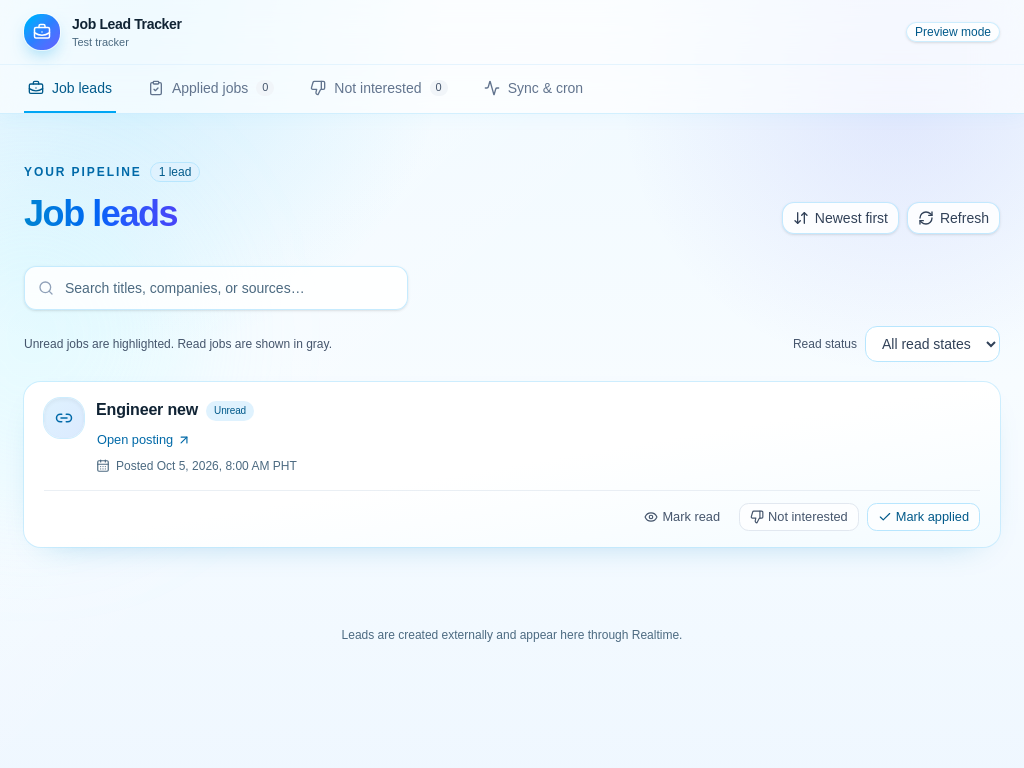
Test: DashboardView job tracking › removes priority controls and moves dismissed jobs to Not interested with undo
Click the button with aria-label "Mark Engineer new as not interested" at (799, 517), box [739,503,859,531]
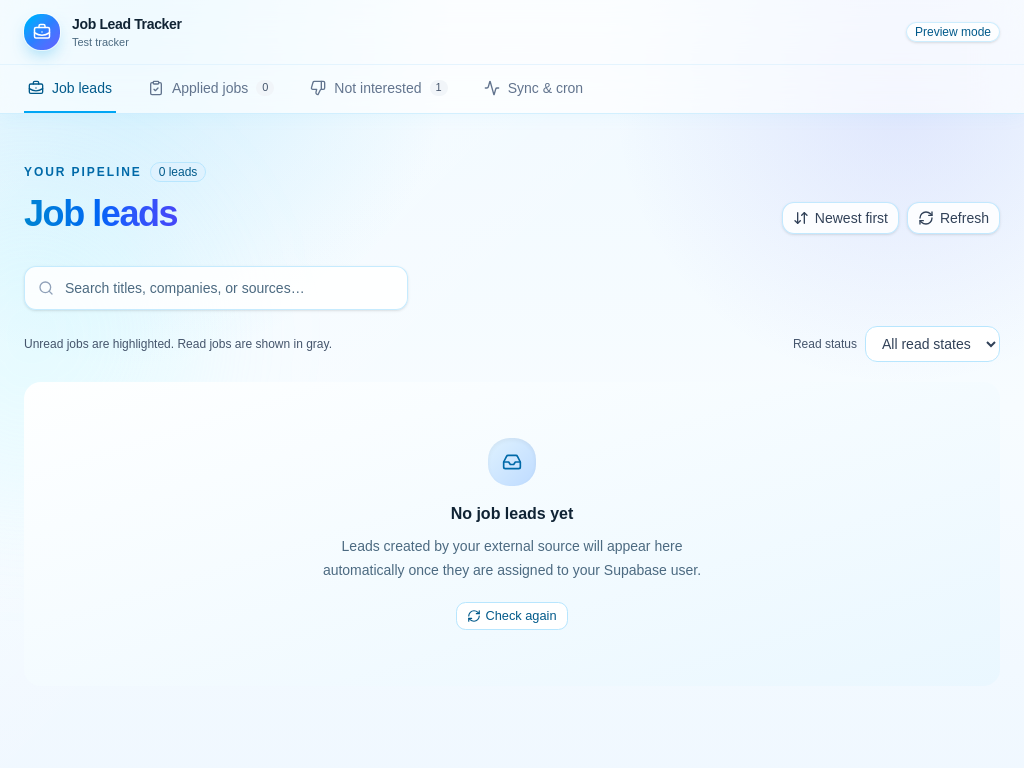
Expected: the heading "No job leads yet" is shown, [451,502,573,526]
Click the link "Not interested 1" at (379, 88), box [310,80,448,96]
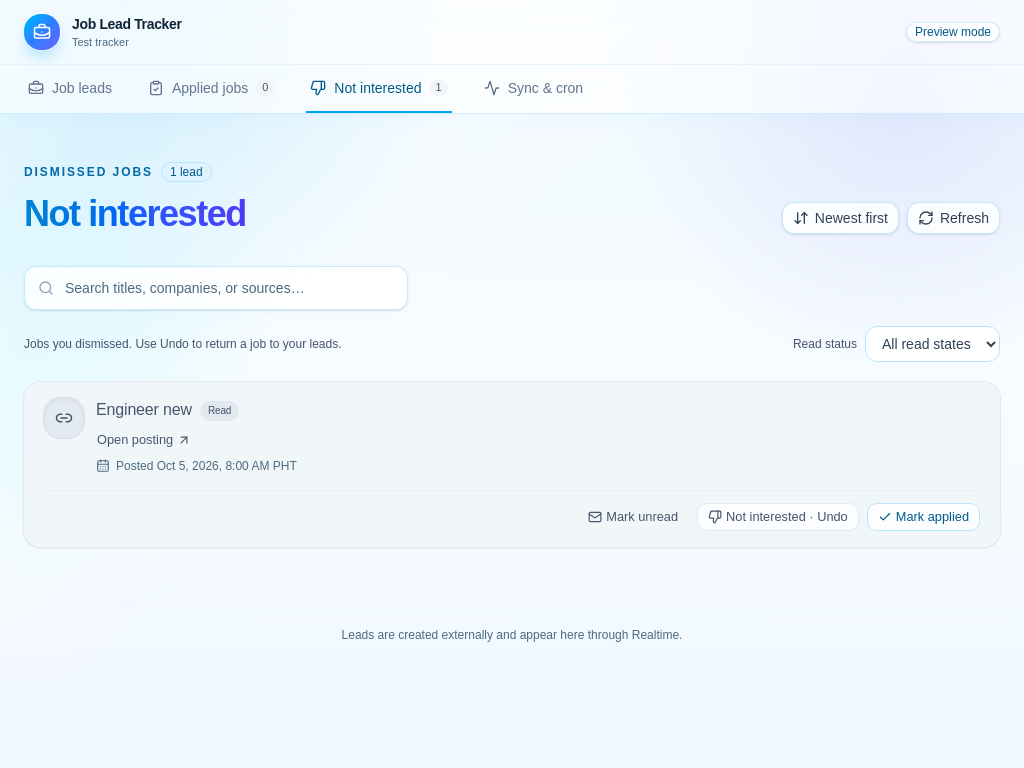
Expected: the heading "Not interested" is shown, [24,194,246,234]
Click the button with aria-label "Restore Engineer new from not interested" at (778, 517), box [697,503,859,531]
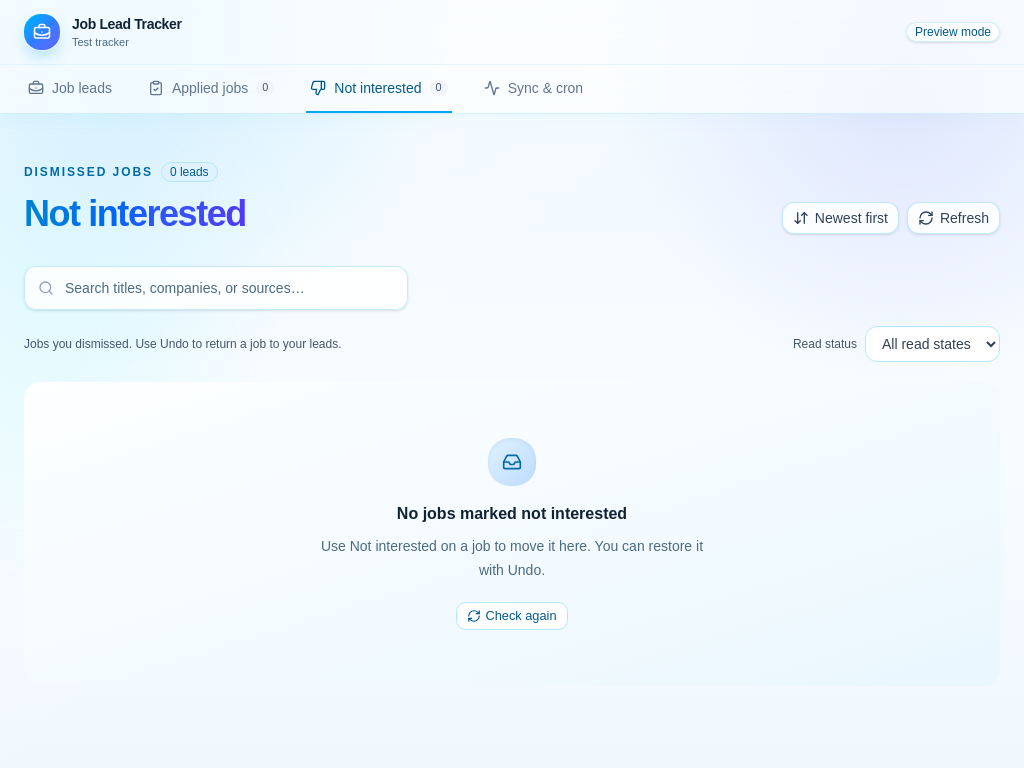
Expected: the heading "No jobs marked not interested" is shown, [397,502,627,526]
Click the link "Job leads" at (70, 88), box [28,80,112,96]
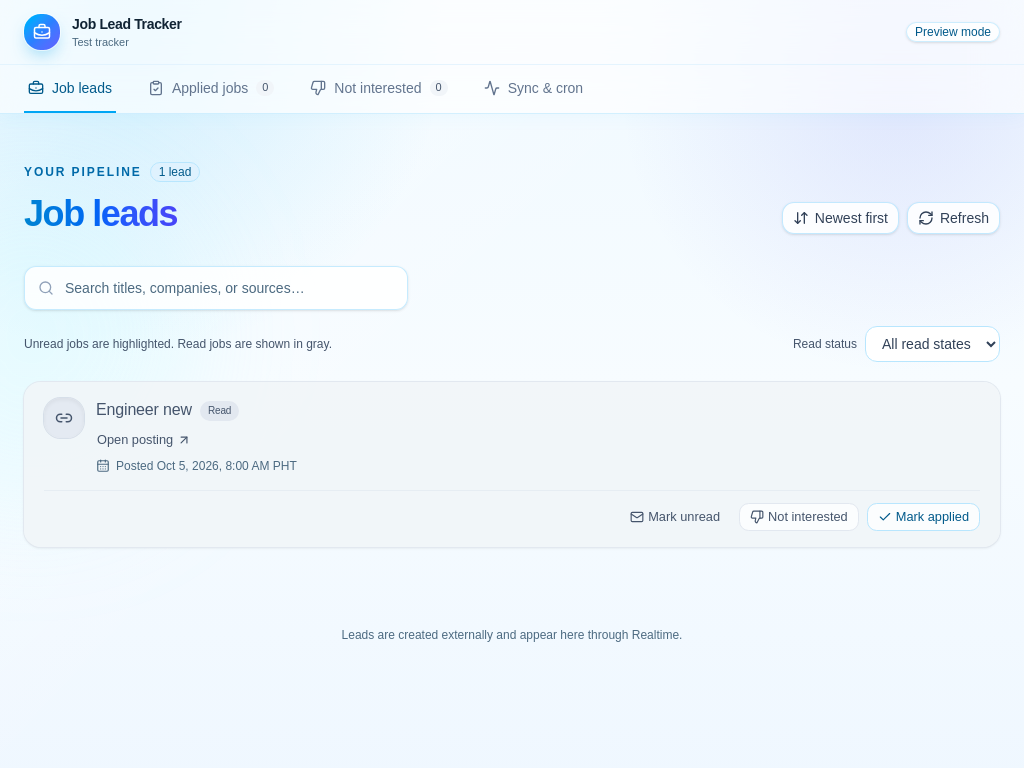
Expected: the element "Engineer new" is shown, [24,382,1000,547]
